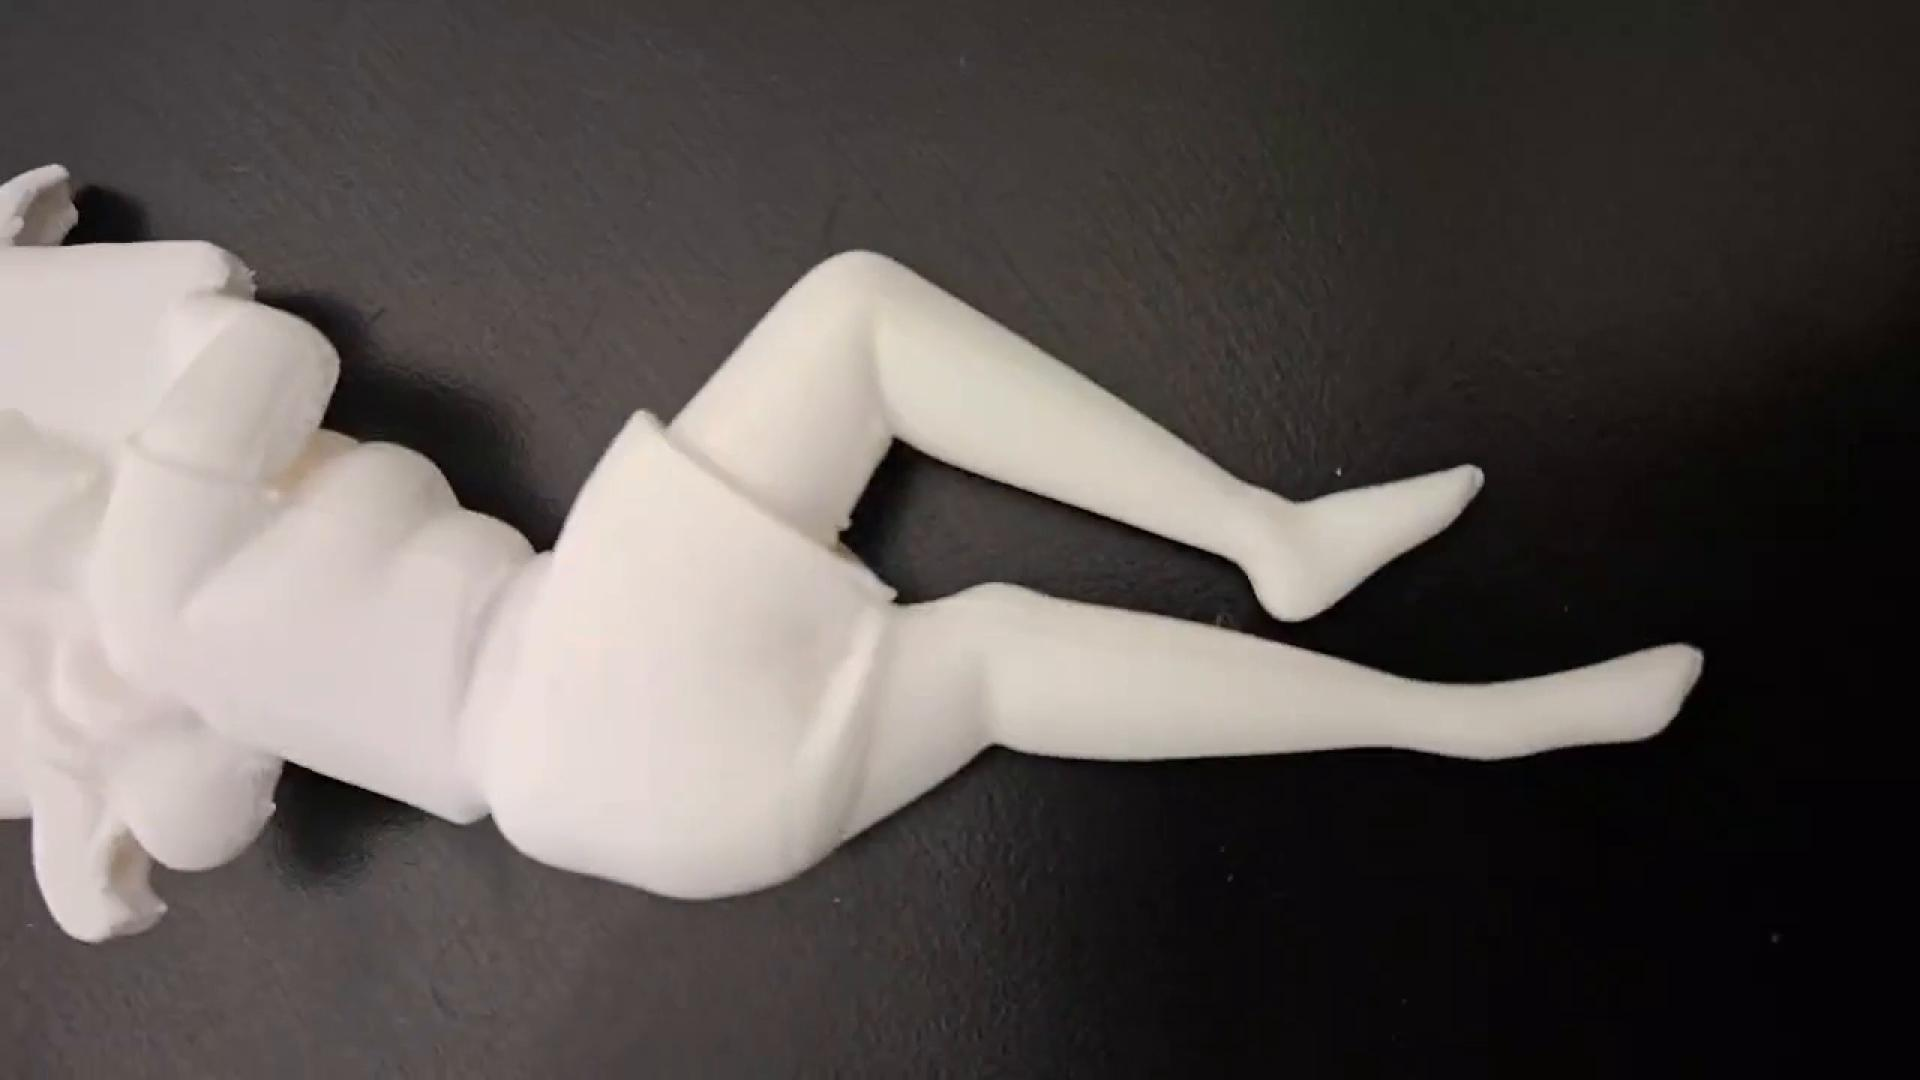Good-style: (0, 119, 1741, 1022)
